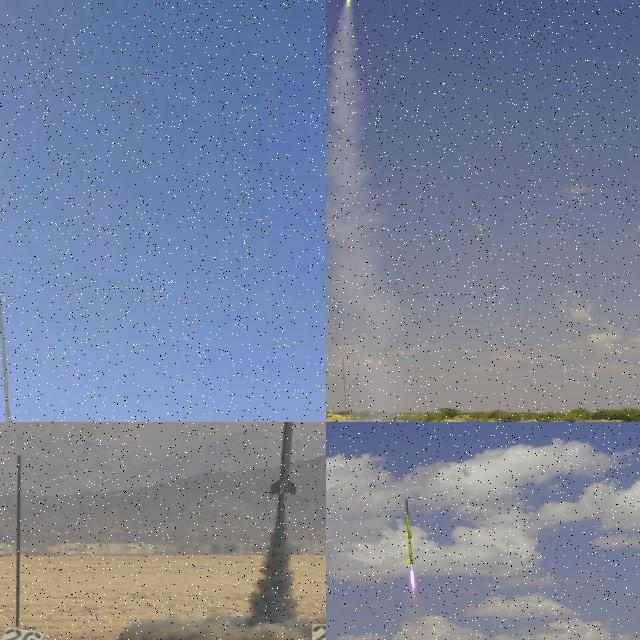Rocket: (269, 422, 297, 497), (405, 497, 414, 566)
